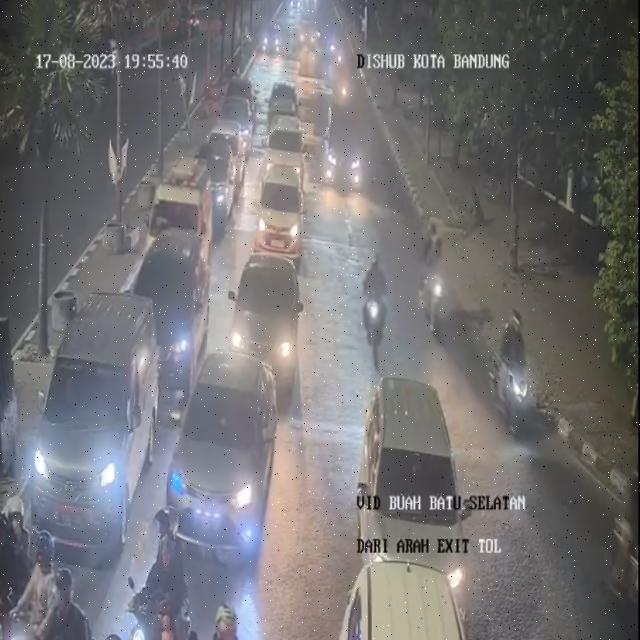cars: (33, 290, 159, 554), (168, 350, 283, 576), (368, 368, 463, 632), (334, 548, 468, 640), (131, 231, 207, 384), (232, 251, 306, 387), (149, 167, 216, 281), (255, 164, 305, 262), (196, 124, 240, 222), (327, 127, 366, 195), (265, 115, 305, 178), (224, 93, 256, 152), (264, 82, 299, 135), (228, 73, 258, 113), (295, 16, 318, 50)
motorcycle: (131, 500, 189, 640), (488, 307, 537, 439), (419, 219, 456, 338), (0, 493, 28, 637), (358, 246, 392, 360), (20, 547, 60, 638), (48, 572, 92, 640), (200, 598, 244, 640)
